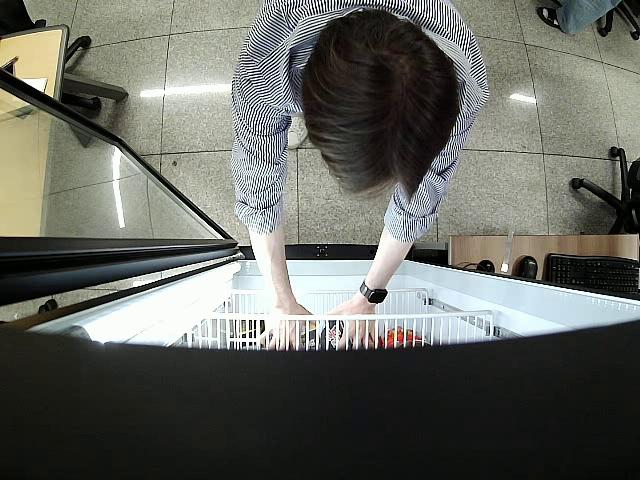00_hand: (319, 300, 376, 351), (256, 303, 315, 351)
07_buldak_L: (260, 315, 320, 354), (323, 318, 376, 351)
